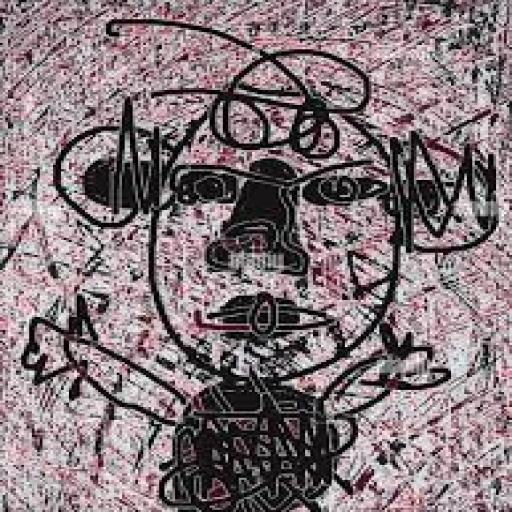person: (16, 31, 501, 510)
